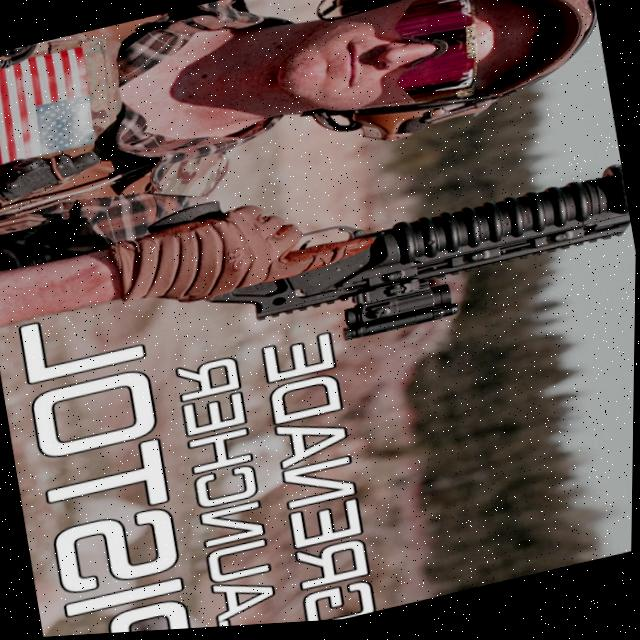rocket: (141, 112, 638, 387)
